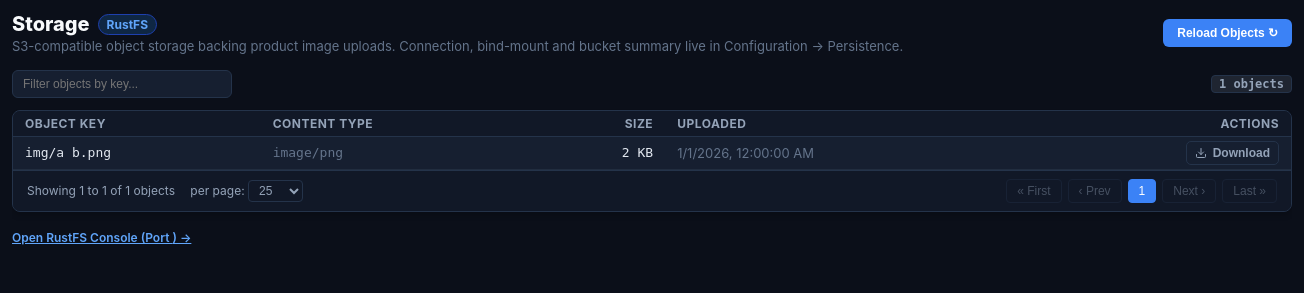
Test: StorageTab download › shows the error (toast + inline) and does not open on 404
This screenshot has width=1304, height=293.
Click the button with aria-label "Download img" at (1232, 153), box [1186,141,1279,165]
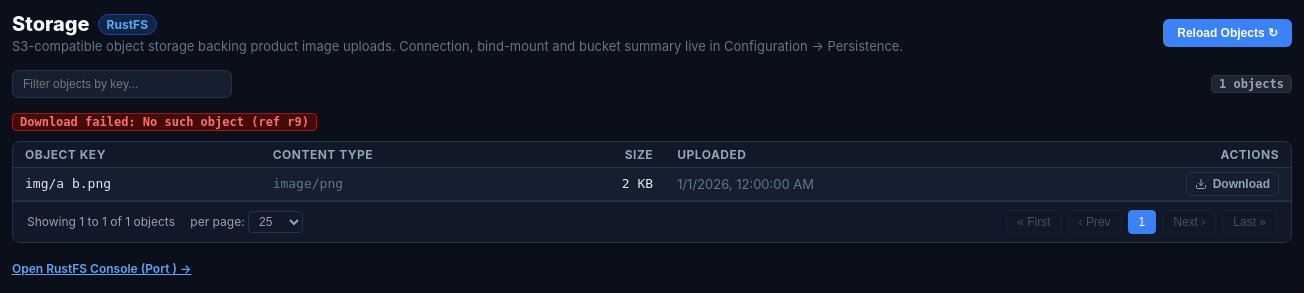
Now the message shows "No such object (ref r9)", box [20,115,309,129]
